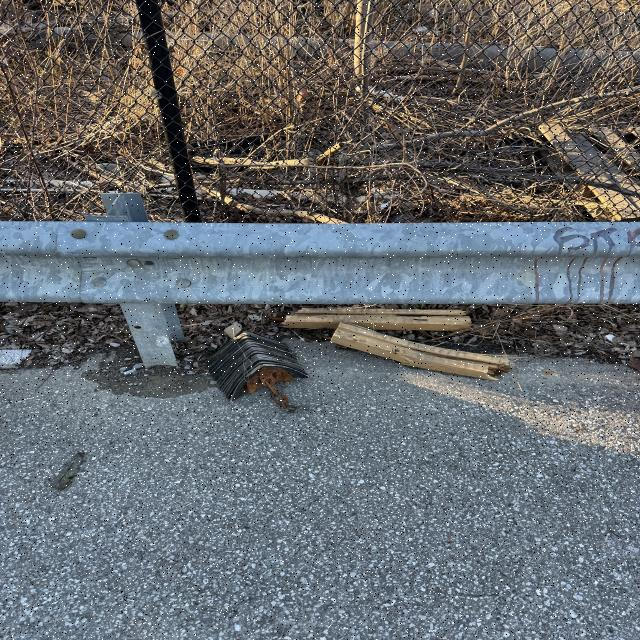Guard rail: (14, 208, 634, 306)
